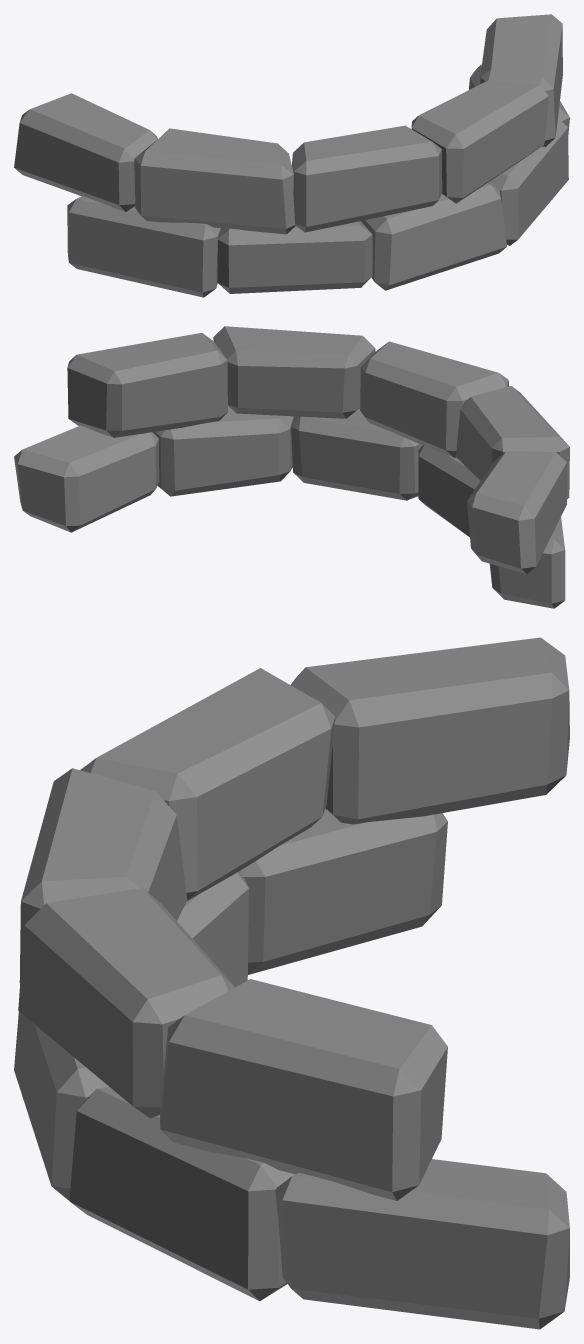
The model's file is BrickWall2mSection_01_T180_Mid.fbx.
3 views of the same model, one above another, from view 1: azimuth 30°, elevation 25°; view 2: azimuth 150°, elevation 25°; view 3: azimuth 270°, elevation 25° (orthographic). The views are drawn at different scales.
Visible parts, largest first — view 1: BrickWall2mSection_01_T180_Mid; view 2: BrickWall2mSection_01_T180_Mid; view 3: BrickWall2mSection_01_T180_Mid.
Part boxes in pixels (bbox=[...]): BrickWall2mSection_01_T180_Mid: bbox=[14, 14, 569, 297]; BrickWall2mSection_01_T180_Mid: bbox=[14, 326, 569, 608]; BrickWall2mSection_01_T180_Mid: bbox=[14, 637, 569, 1329].
Size of the model in its own units: 161 by 41.78 by 80.13.
